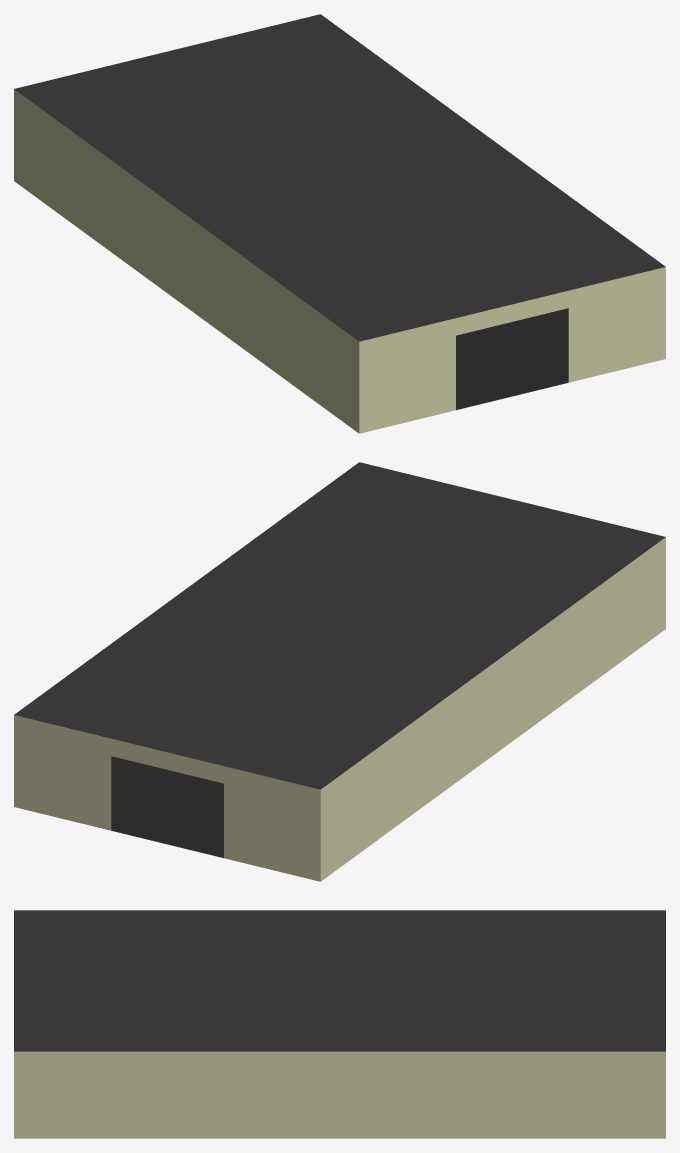
Rendered from EstacionBox.fbx.
3 views of the same model, one above another, from view 1: azimuth 30°, elevation 25°; view 2: azimuth 150°, elevation 25°; view 3: azimuth 270°, elevation 25° (orthographic). The views are drawn at different scales.
Parts seen in each view (by area): view 1: Cube; view 2: Cube; view 3: Cube.
Boxes of the visible parts, bbox=[...] form: Cube: bbox=[14, 14, 665, 433]; Cube: bbox=[14, 462, 665, 881]; Cube: bbox=[14, 910, 665, 1138].
Bounding box in the file's own units: 4891 × 1404 × 9540.
